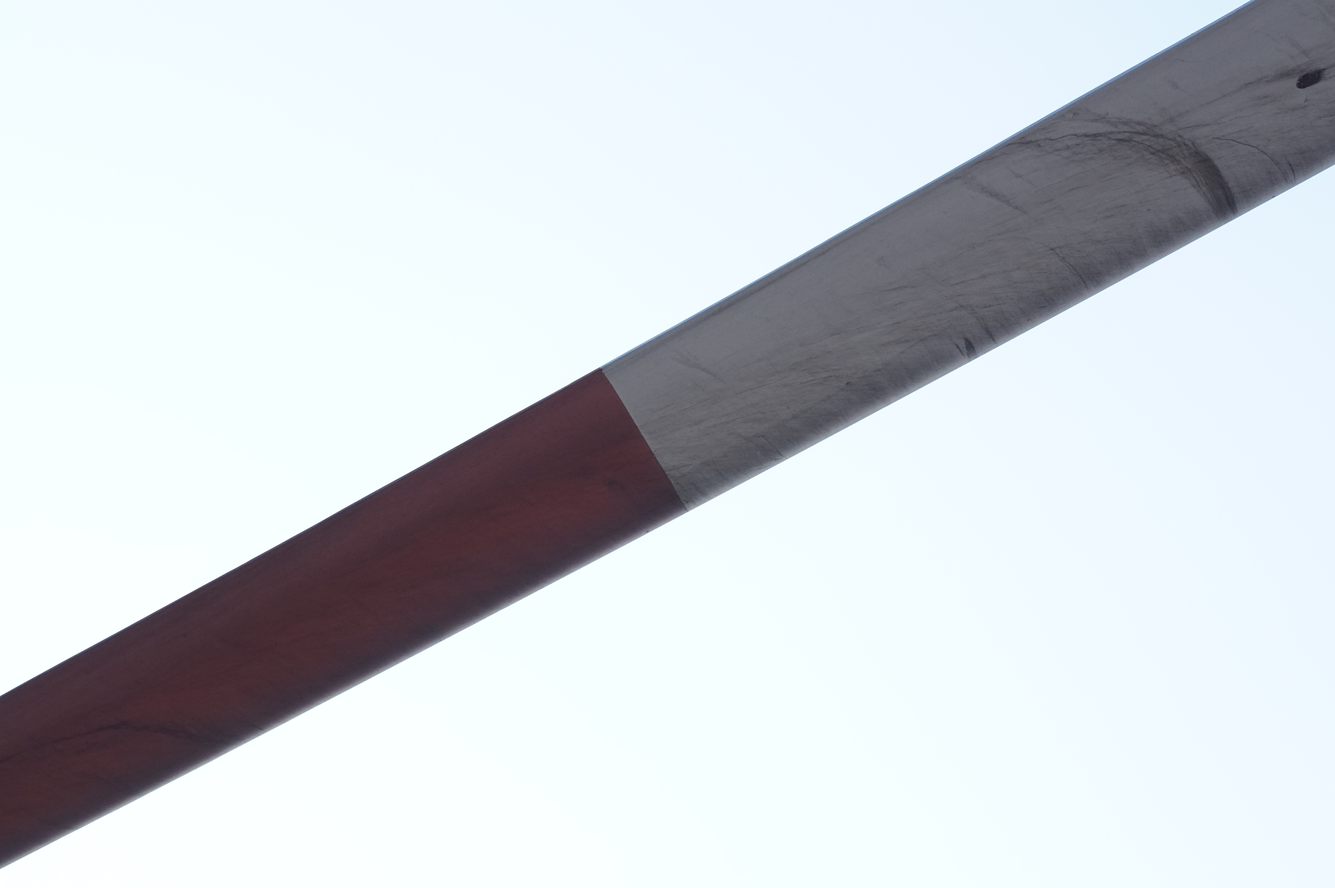Damage: (1294, 71, 1321, 91)
